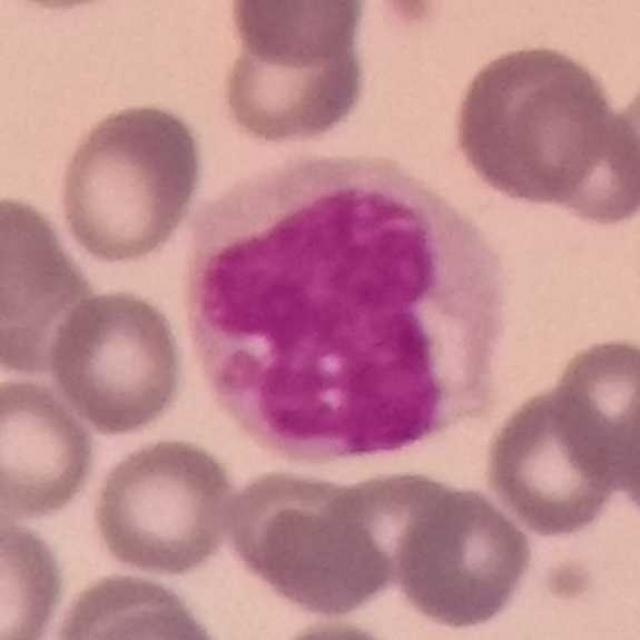mono: (180, 147, 514, 464)
